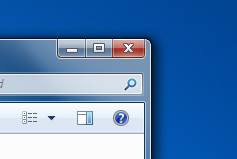close: (113, 38, 145, 57)
